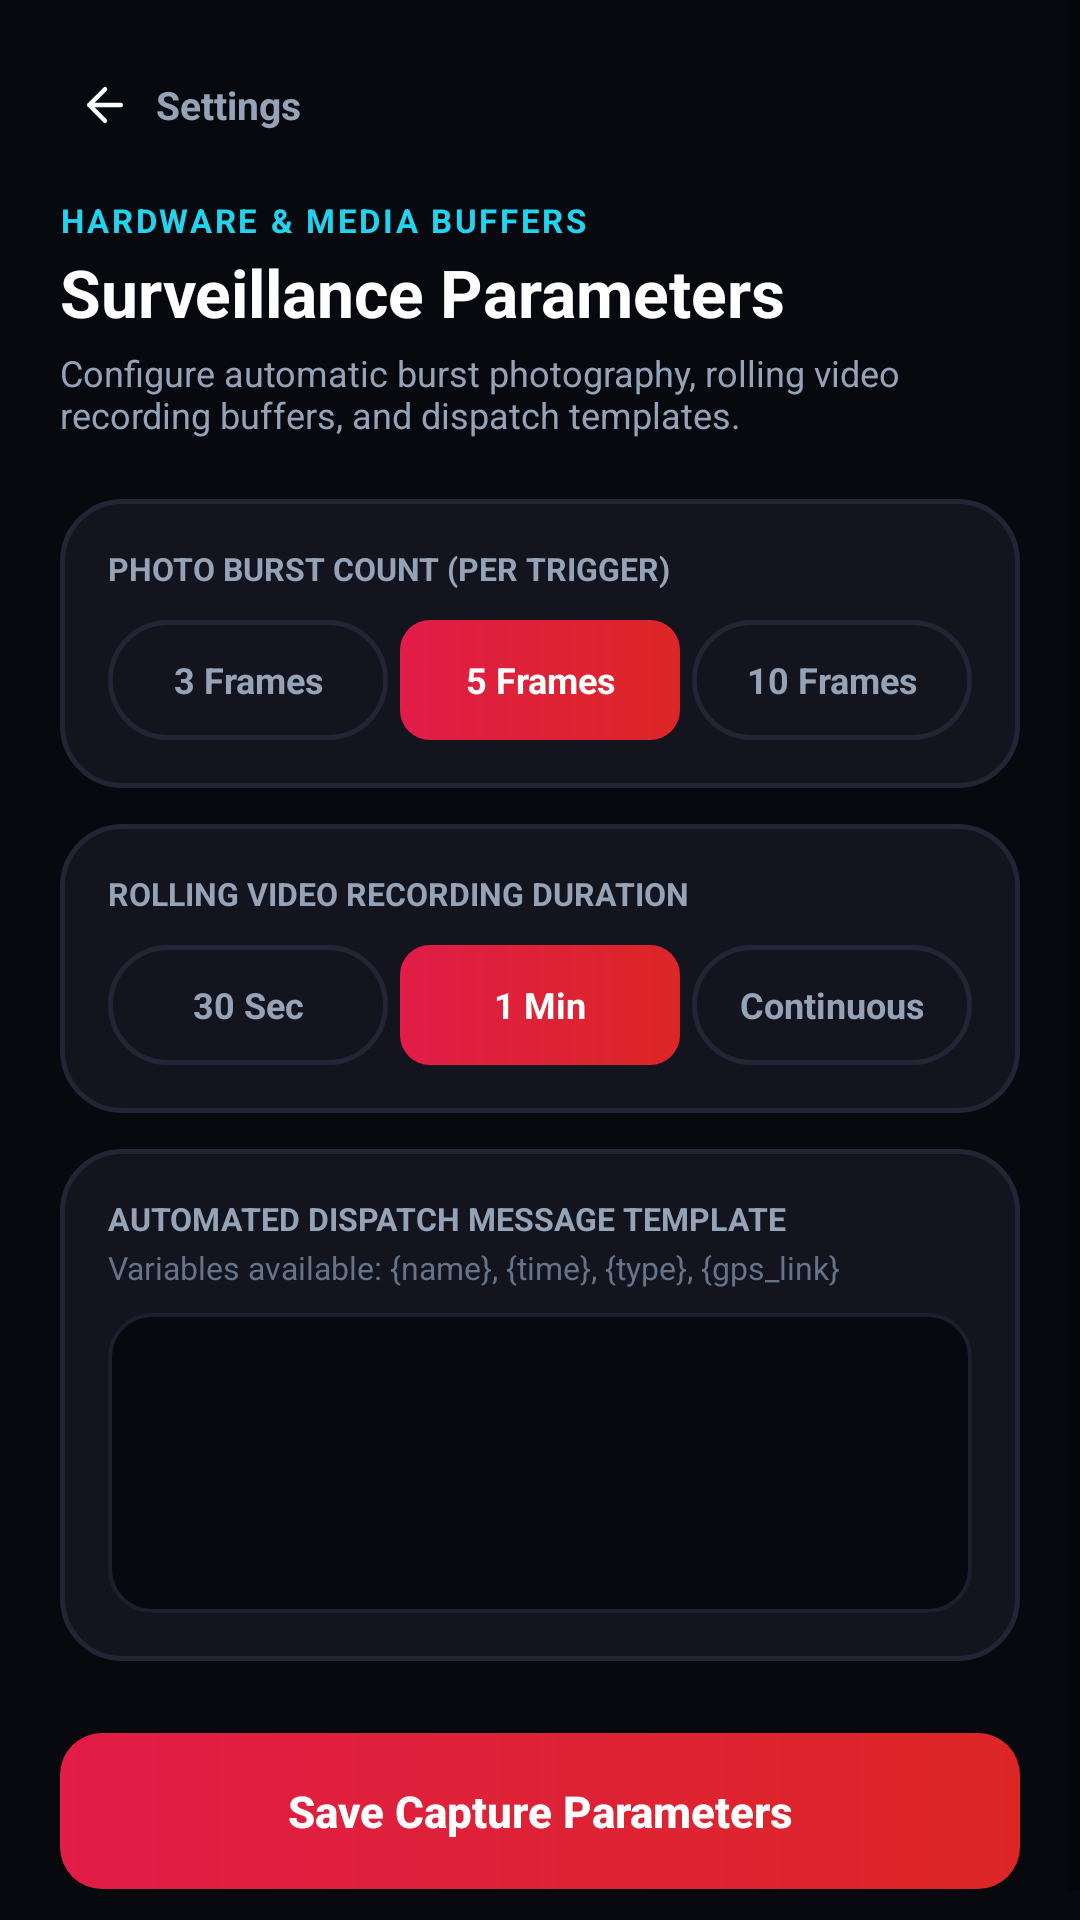

Locate icon controls on the screen. Image size 1080w x 1920h, boxes as bbox=[x1, y1, x2, y2].
arrow left: bbox=[87, 87, 123, 123]
